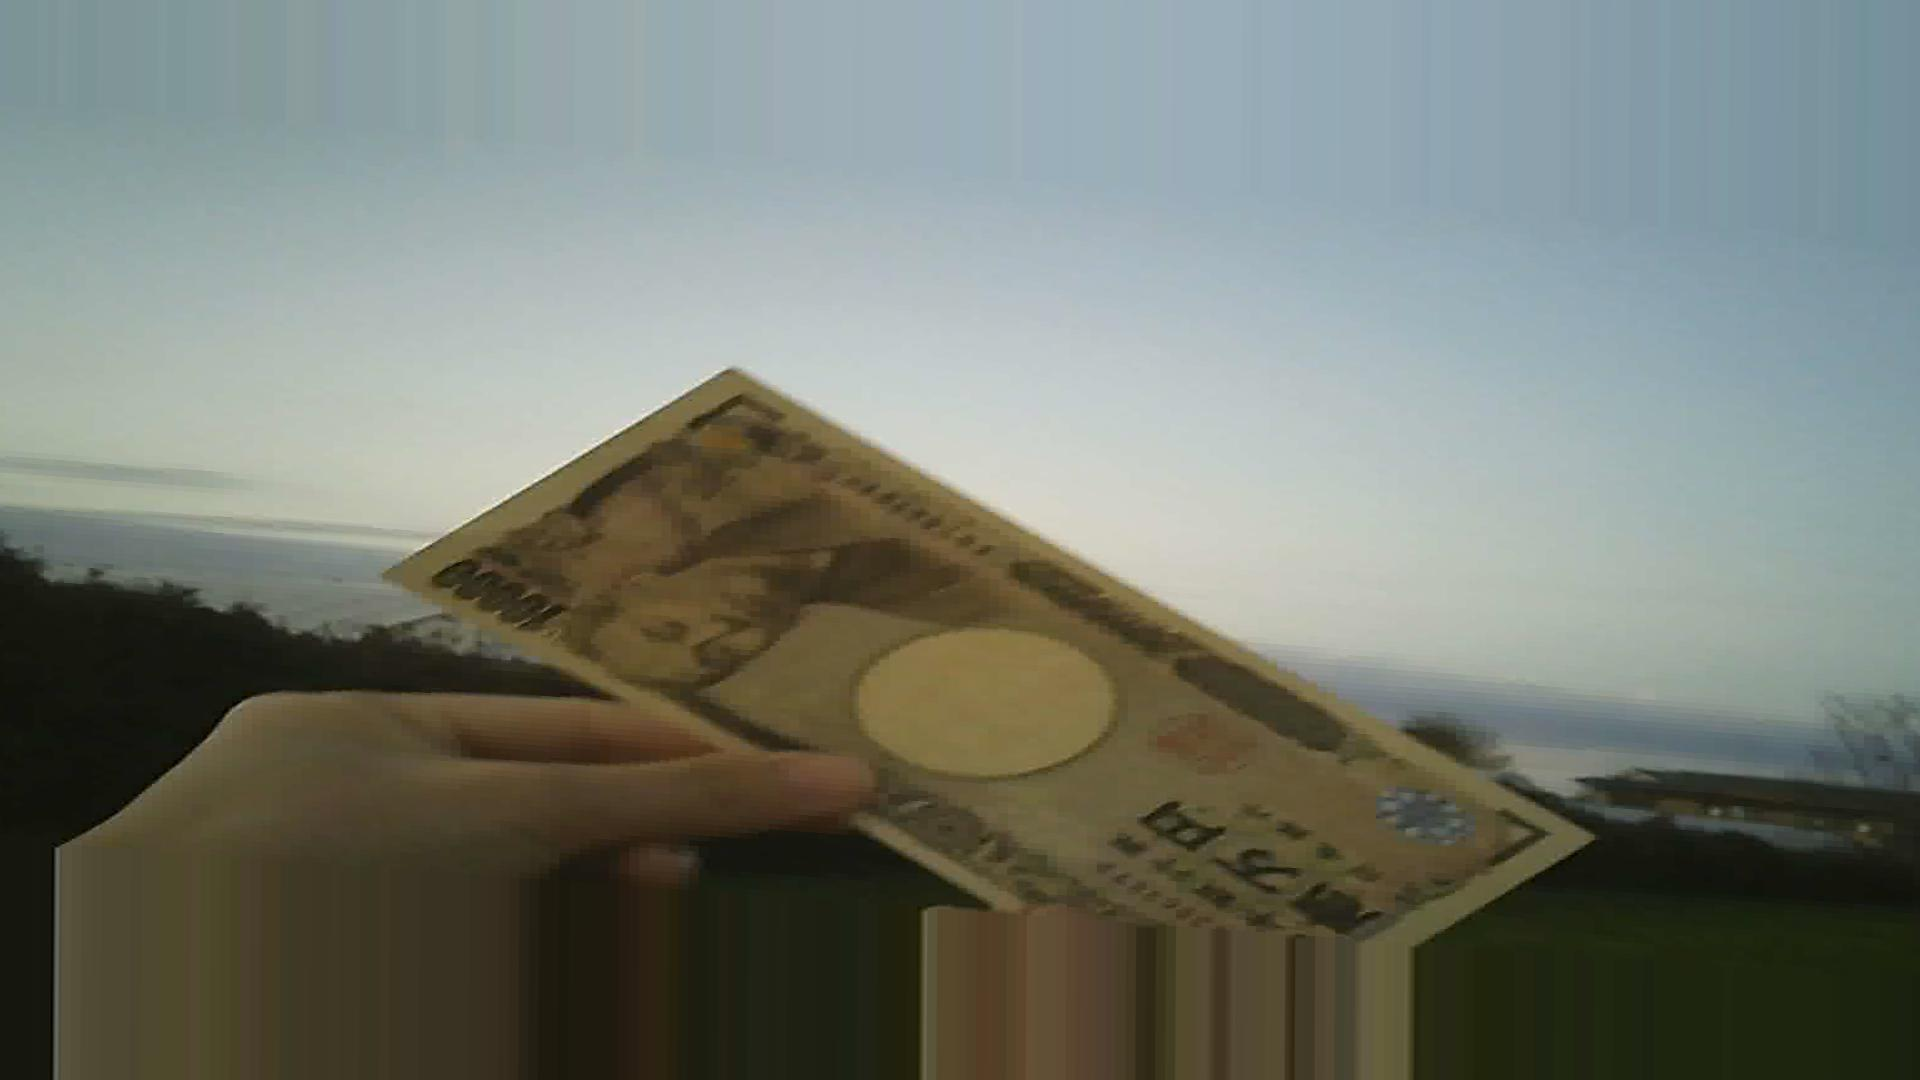10,000 Yen: (378, 351, 1569, 957)
